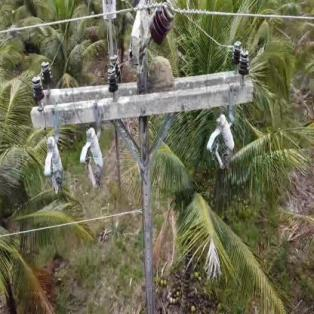Poste: (127, 1, 162, 312)
